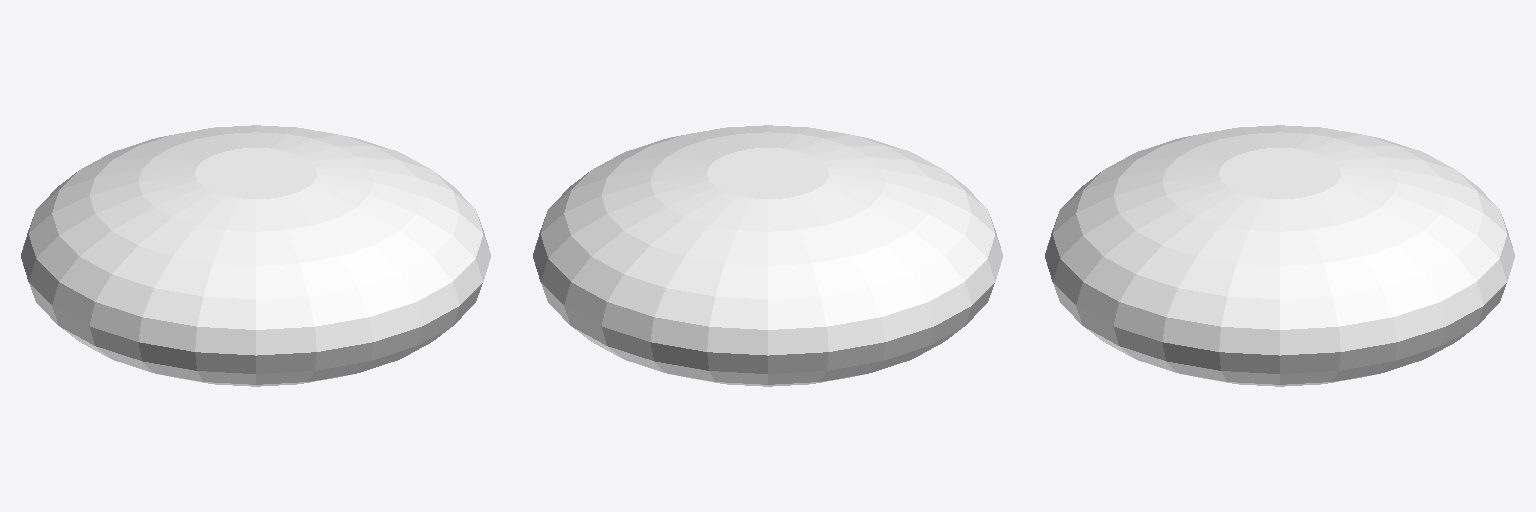
Rendered from go_stone.obj.
The picture shows the model from 3 angles: view 1: azimuth 30°, elevation 25°; view 2: azimuth 150°, elevation 25°; view 3: azimuth 270°, elevation 25°; orthographic projection.
Parts seen in each view (by area): view 1: Sphere; view 2: Sphere; view 3: Sphere.
Boxes of the visible parts, <box> form: Sphere: <box>21,125,490,386</box>; Sphere: <box>533,125,1002,386</box>; Sphere: <box>1045,125,1514,386</box>.
Size of the model in its own units: 2.2 by 0.85 by 2.2.